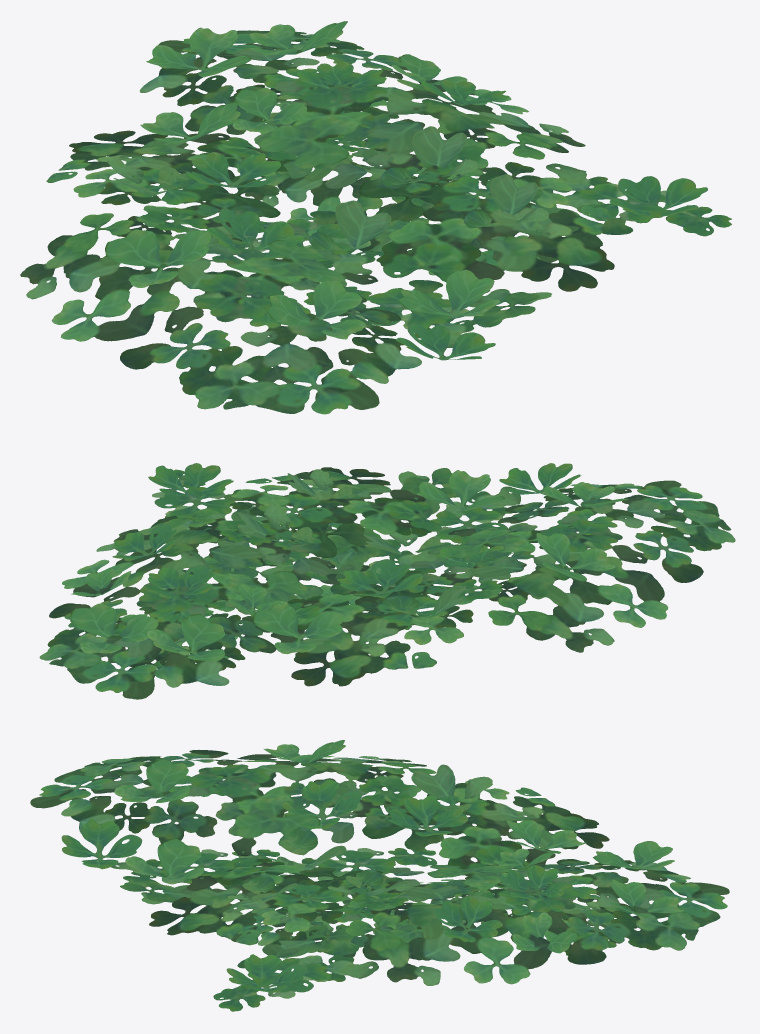
File: SM_Ground_Clovers_A.fbx
The picture shows the model from 3 angles, top to bottom: view 1: azimuth 30°, elevation 25°; view 2: azimuth 150°, elevation 25°; view 3: azimuth 270°, elevation 25°; orthographic projection. The views are drawn at different scales.
Parts seen in each view (by area): view 1: SM_Ground_Clovers_A_LOD0; view 2: SM_Ground_Clovers_A_LOD0; view 3: SM_Ground_Clovers_A_LOD0.
Boxes of the visible parts, x1,y1,x2,y2 form: SM_Ground_Clovers_A_LOD0: (20,21,731,414); SM_Ground_Clovers_A_LOD0: (39,463,735,699); SM_Ground_Clovers_A_LOD0: (30,740,729,1011).
Size of the model in its own units: 93.01 by 107 by 11.75.
Materials: 1 (1 with a texture image).
